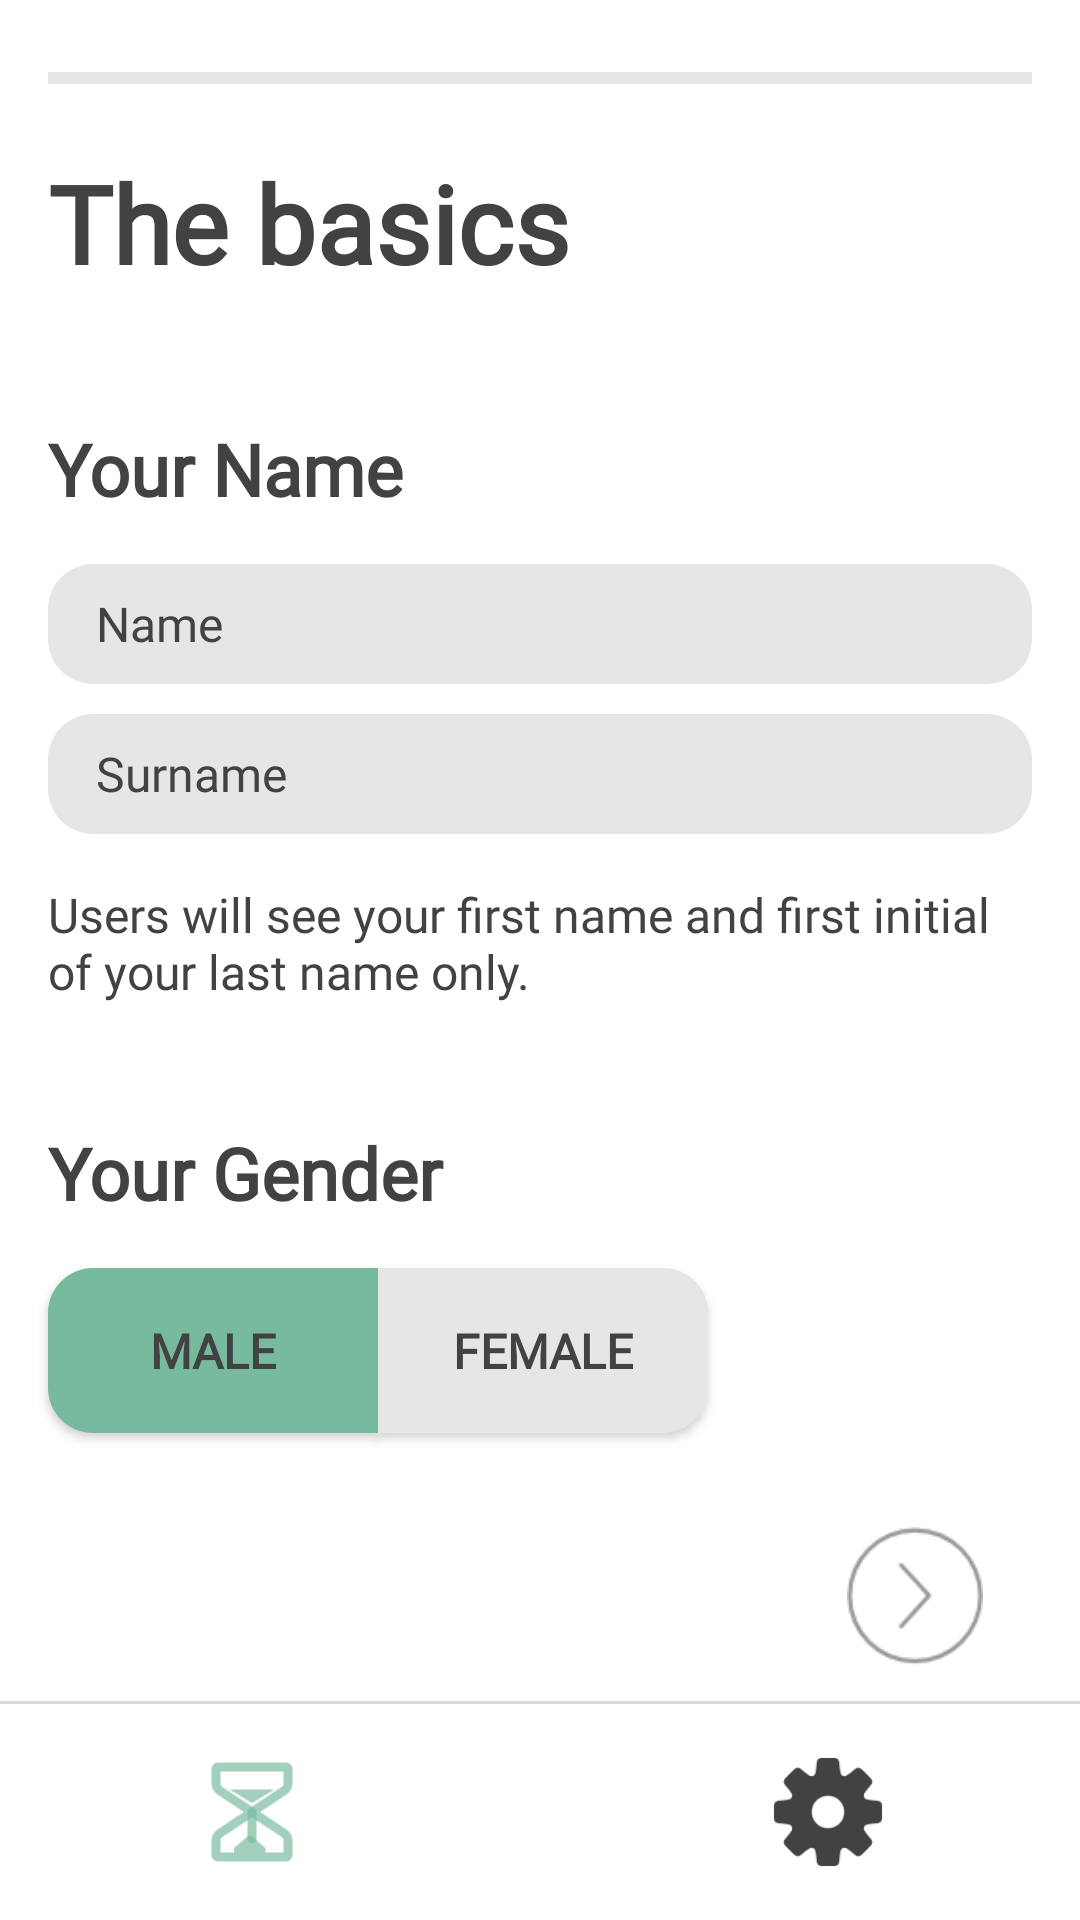

Icon bounding boxes for this 1080×1920 phone screenshot, format (x1, y1, x2, y2):
next: (847, 1527, 983, 1664)
